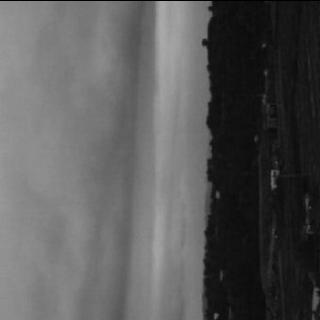Stratocumulus: (0, 0, 194, 320)
